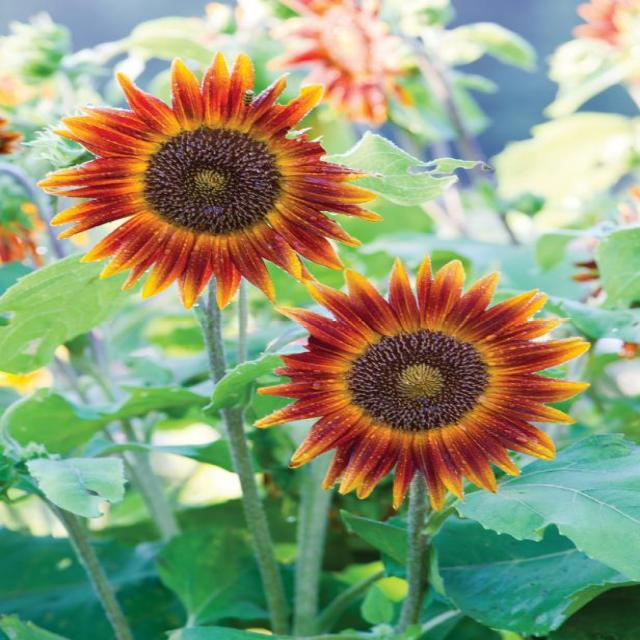sunflower: (247, 265, 596, 511), (55, 48, 371, 308)
